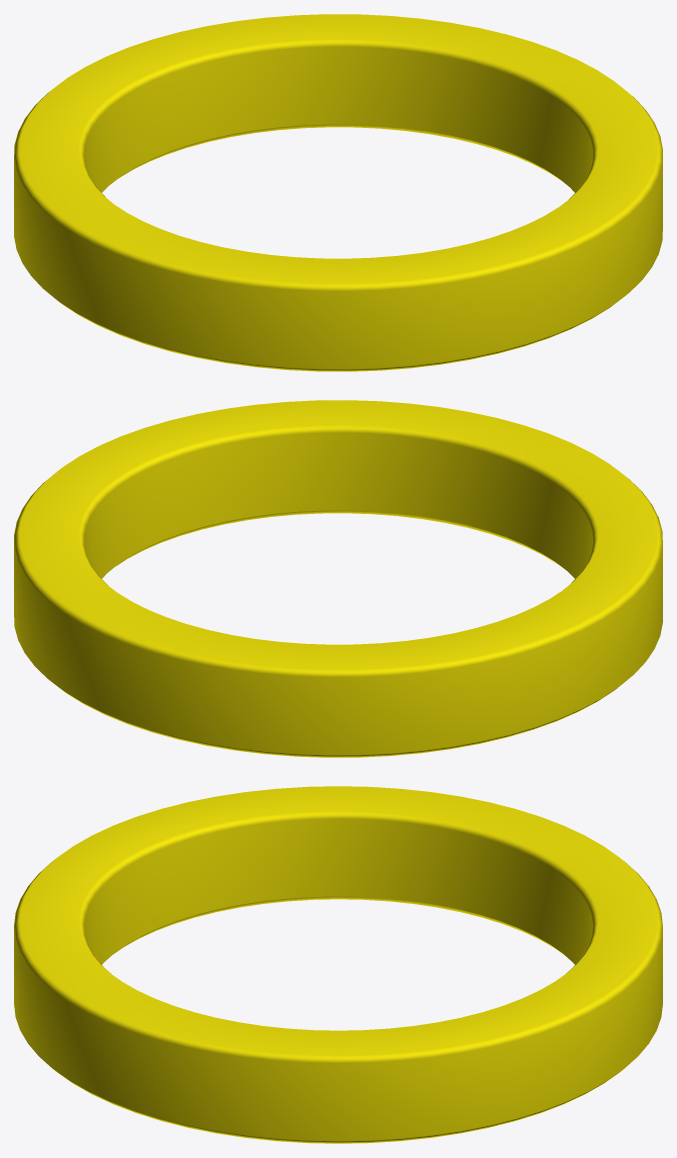
The picture shows the model from 3 angles, top to bottom: view 1: azimuth 30°, elevation 25°; view 2: azimuth 150°, elevation 25°; view 3: azimuth 270°, elevation 25°; orthographic projection.
Parts seen in each view (by area): view 1: seal_body; view 2: seal_body; view 3: seal_body.
Part boxes in pixels (x1,y1,x2,y2): seal_body: (14, 14, 662, 371); seal_body: (14, 400, 662, 757); seal_body: (14, 786, 662, 1143).
Bounding box in the file's own units: 0.0383 × 0.00575 × 0.0383.
